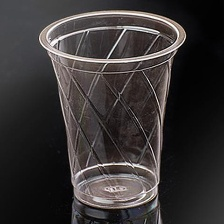glass: (35, 6, 187, 214)
